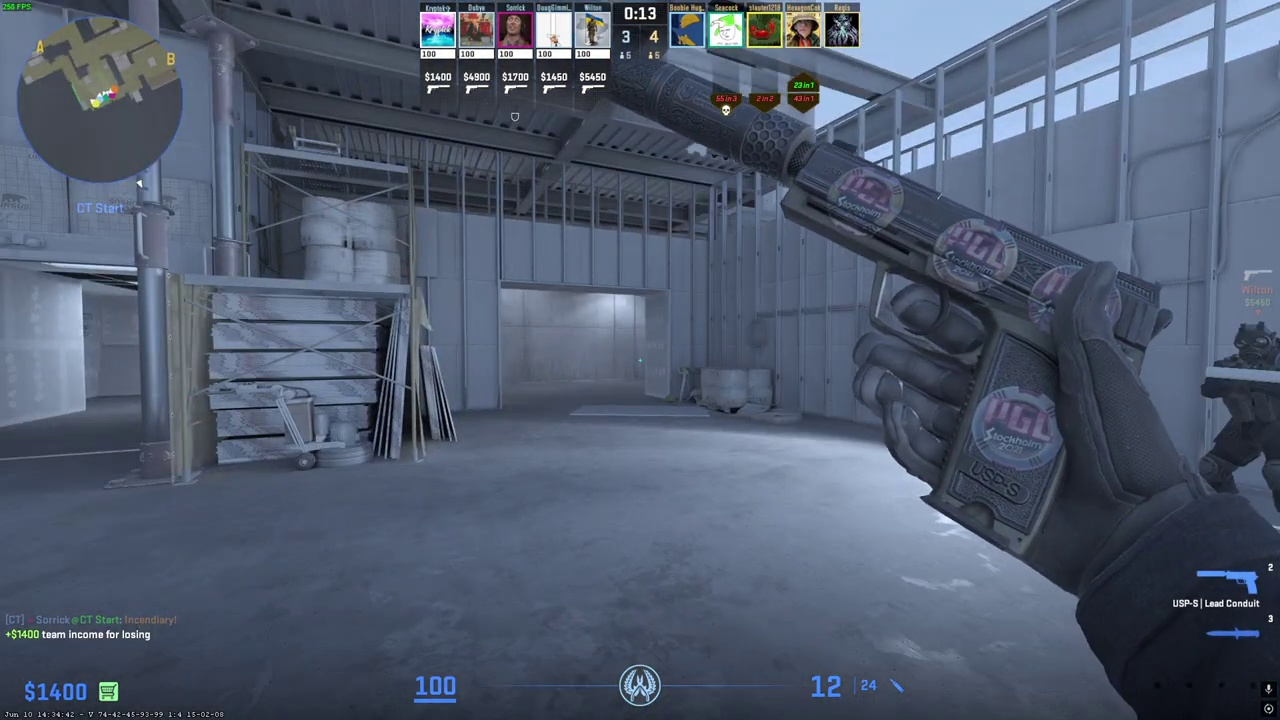CT: (1197, 321, 1280, 512)
